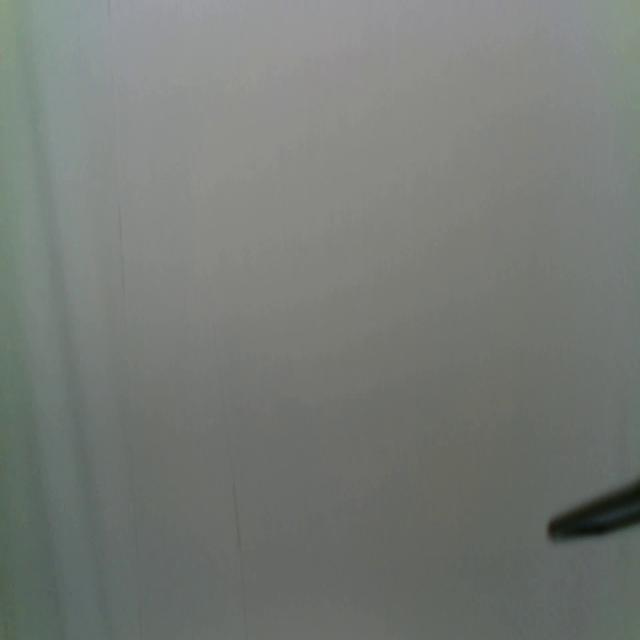crease: (105, 0, 142, 636), (211, 318, 249, 639)
